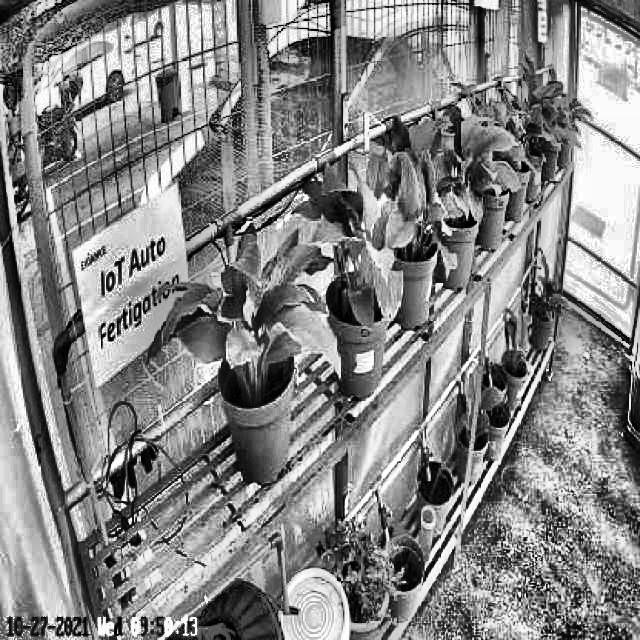plants: (146, 222, 342, 392), (354, 112, 458, 286), (298, 168, 404, 324), (426, 100, 516, 228)
